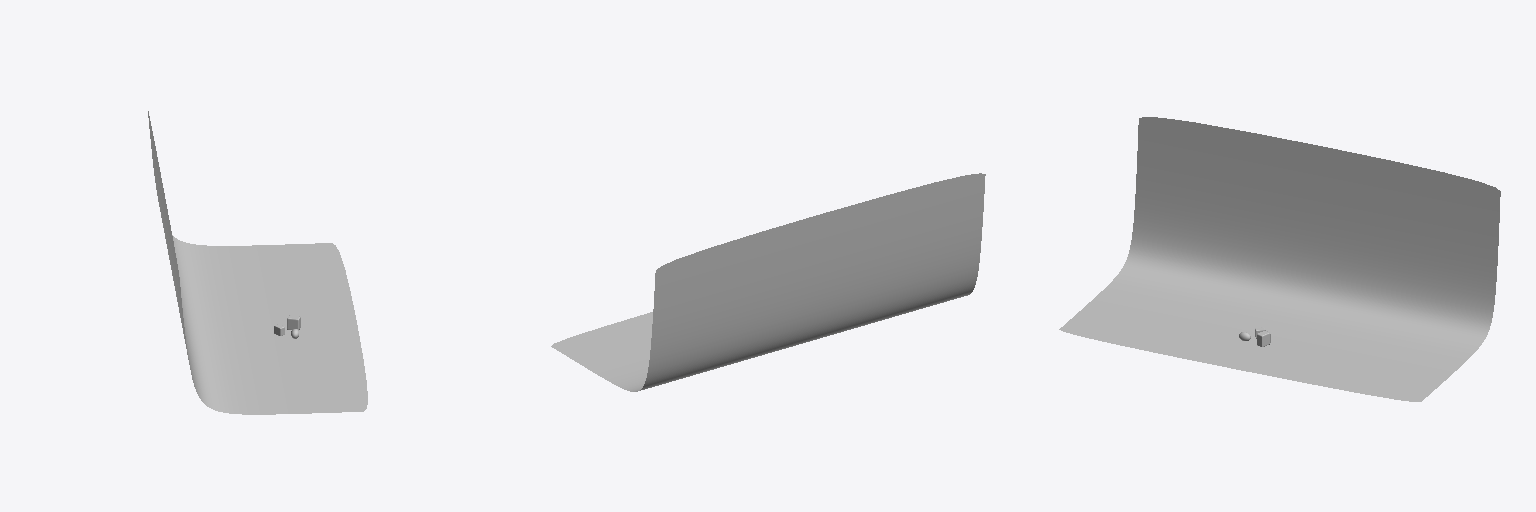
The picture shows the model from 3 angles: view 1: azimuth 30°, elevation 25°; view 2: azimuth 150°, elevation 25°; view 3: azimuth 270°, elevation 25°; orthographic projection.
Parts seen in each view (by area): view 1: Ground_Mesh.001; view 2: Ground_Mesh.001; view 3: Ground_Mesh.001.
Boxes of the visible parts, box(x1,y1,x2,y2) form: Ground_Mesh.001: box(148, 111, 367, 414); Ground_Mesh.001: box(551, 173, 985, 391); Ground_Mesh.001: box(1059, 117, 1500, 401).
Size of the model in its own units: 47.83 by 23.16 by 62.22.